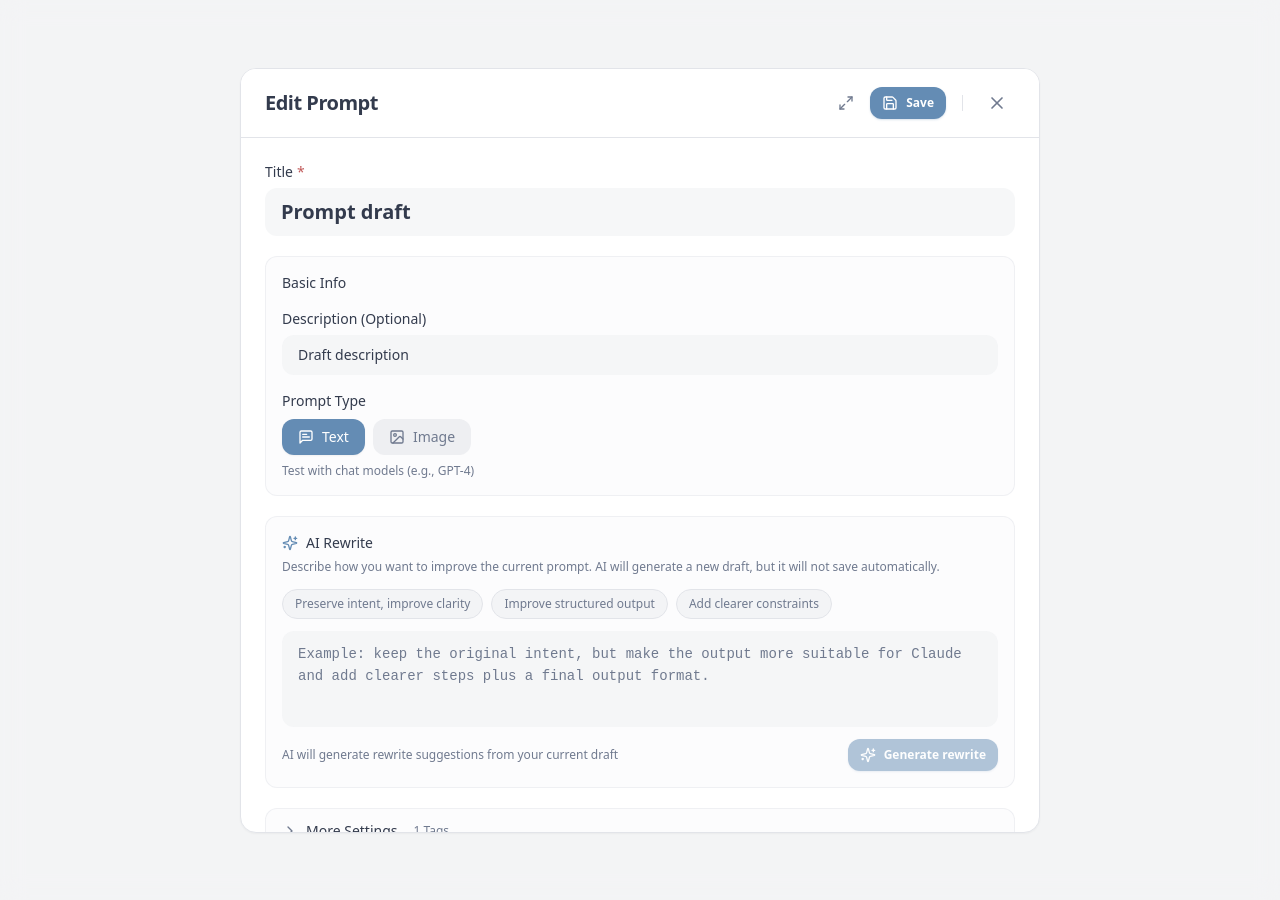
Test case: Prompt modal structure › shows an error toast when rewrite is requested without instructions
Expected: the button "Generate rewrite" is disabled, [848,738,998,770]
Click the button "Preserve intent, improve clarity" at (383, 604), box [282,588,483,618]
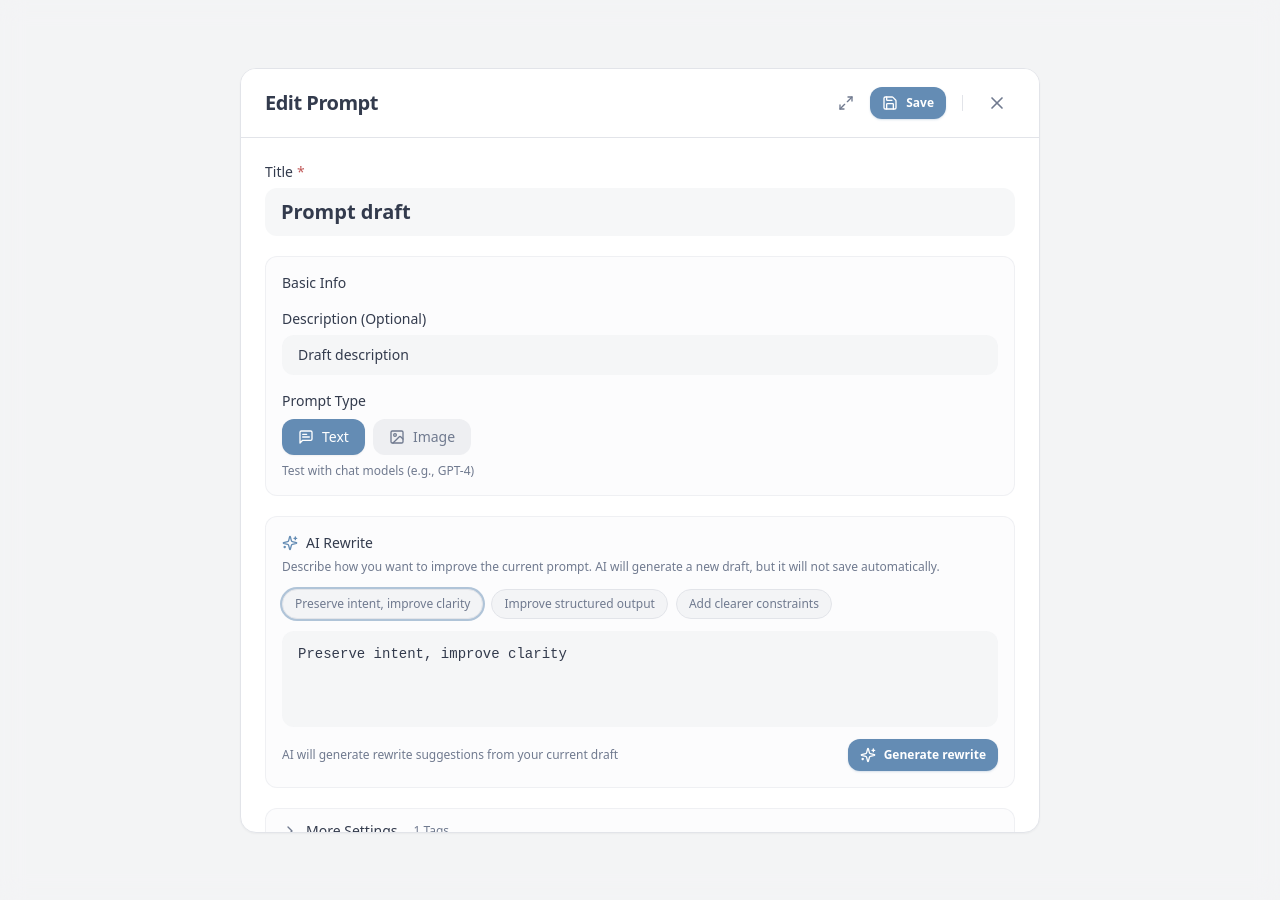
Result: the button "Generate rewrite" is enabled at [848,738,998,770]
